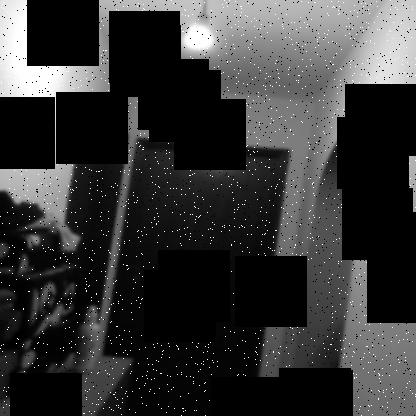Porte: (100, 137, 292, 415)
